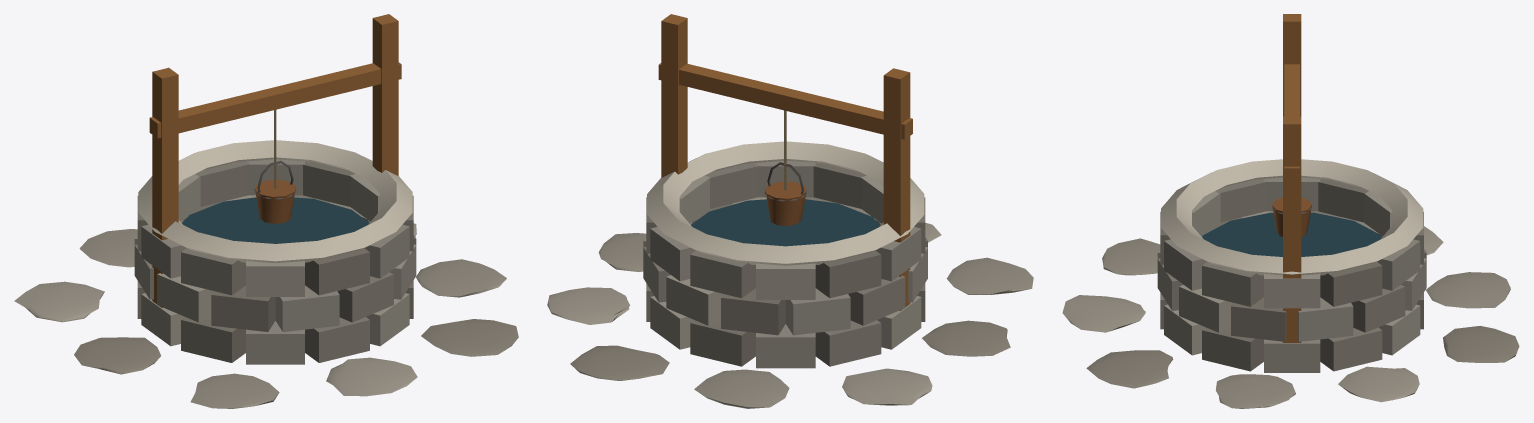
The model's file is well-1.glb.
3 views of the same model, side by side, from view 1: azimuth 30°, elevation 25°; view 2: azimuth 150°, elevation 25°; view 3: azimuth 270°, elevation 25° (orthographic). The views are drawn at different scales.
Visible parts, largest first — view 1: building-well-1; view 2: building-well-1; view 3: building-well-1.
Part boxes in pixels (x1,y1,x2,y2): building-well-1: (14, 14, 518, 408); building-well-1: (547, 14, 1033, 408); building-well-1: (1062, 14, 1519, 408).
Size of the model in its own units: 3.45 by 2.11 by 3.5.
